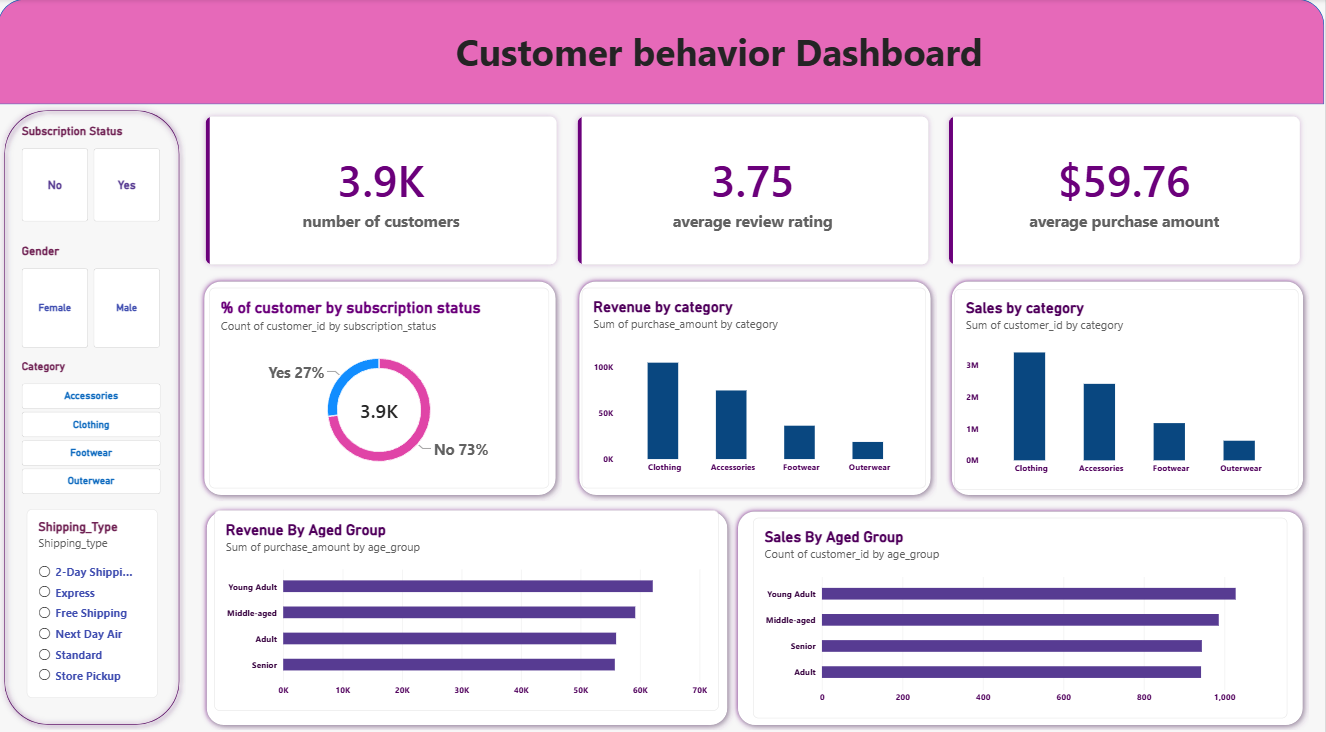

The dashboard page shown, as its layout file describes it:
{"tool":"powerbi","page":{"name":"Page 1","canvas":[1920,1080],"ordinal":0},"visuals":[{"type":"shape","box":[293.6,732.8,771.9,327.3],"z":500},{"type":"cardVisual","fields":{"Data":["public customer.number of customers","public customer.average review rating","public customer.average purchase amount"]},"box":[290.2,158.8,1607.7,236.5],"z":1000},{"type":"shape","box":[0,0,1920,152.5],"z":2000},{"type":"textbox","box":[0,40,1920,127.5],"z":3000},{"type":"shape","box":[290.2,400.8,526.9,327.3],"z":4000},{"type":"donutChart","title":"% of customer by subscription status","fields":{"Category":["public customer.subscription_status"],"Y":["CountNonNull(public customer.customer_id)"]},"box":[306.7,417.8,491.9,290.2],"z":5000},{"type":"shape","box":[1370.8,400.8,526.9,327.3],"z":6000},{"type":"shape","box":[831.6,400.8,526.9,327.3],"z":7000},{"type":"clusteredColumnChart","title":"Revenue by category","fields":{"Category":["public customer.category"],"Y":["Sum(public customer.purchase_amount)"]},"box":[846,417.8,498.1,290.2],"z":8000},{"type":"clusteredColumnChart","title":"Sales by category","fields":{"Category":["public customer.category"],"Y":["Sum(public customer.customer_id)"]},"box":[1385.3,419.9,498.1,290.2],"z":9000},{"type":"shape","box":[0,152.3,271.7,907.7],"z":10000},{"type":"advancedSlicerVisual","fields":{"Values":["public customer.subscription_status"]},"box":[35,181.1,201.7,142],"z":11000},{"type":"advancedSlicerVisual","title":"Gender","fields":{"Values":["public customer.gender"]},"box":[35,354,201.7,150.3],"z":12000},{"type":"advancedSlicerVisual","fields":{"Values":["public customer.category"]},"box":[35,522.8,201.7,197.6],"z":13000},{"type":"listSlicer","title":"Shipping_Type","fields":{"Values":["public customer.shipping_type"]},"box":[41.2,738.9,189.4,273.8],"z":14000},{"type":"clusteredBarChart","title":"Revenue By Aged Group","fields":{"Category":["public customer.age_group"],"Y":["Sum(public customer.purchase_amount)"]},"box":[312.9,741,730.7,290.2],"z":15000},{"type":"shape","box":[1062.1,732.8,835.7,327.3],"z":16000},{"type":"clusteredBarChart","title":"Sales By Aged Group","fields":{"Category":["public customer.age_group"],"Y":["CountNonNull(public customer.customer_id)"]},"box":[1093,751.3,773.9,290.2],"z":17000}]}

Visuals, with their boxes in screenshot pixels (x1, y1, x2, y2), scaled from the page's 1920x1080 canvas onto the 1326x732 screenshot:
shape: x1=203, y1=497, x2=736, y2=719
cardVisual - public customer.number of customers x public customer.average review rating: x1=200, y1=108, x2=1311, y2=268
shape: x1=0, y1=0, x2=1325, y2=103
textbox: x1=0, y1=27, x2=1325, y2=114
shape: x1=200, y1=272, x2=564, y2=493
"% of customer by subscription status" donutChart: x1=212, y1=283, x2=552, y2=480
shape: x1=947, y1=272, x2=1311, y2=493
shape: x1=574, y1=272, x2=938, y2=493
"Revenue by category" clusteredColumnChart: x1=584, y1=283, x2=928, y2=480
"Sales by category" clusteredColumnChart: x1=957, y1=285, x2=1301, y2=481
shape: x1=0, y1=103, x2=188, y2=718
advancedSlicerVisual - public customer.subscription_status: x1=24, y1=123, x2=163, y2=219
"Gender" advancedSlicerVisual: x1=24, y1=240, x2=163, y2=342
advancedSlicerVisual - public customer.category: x1=24, y1=354, x2=163, y2=488
"Shipping_Type" listSlicer: x1=28, y1=501, x2=159, y2=686
"Revenue By Aged Group" clusteredBarChart: x1=216, y1=502, x2=721, y2=699
shape: x1=734, y1=497, x2=1311, y2=719
"Sales By Aged Group" clusteredBarChart: x1=755, y1=509, x2=1289, y2=706
